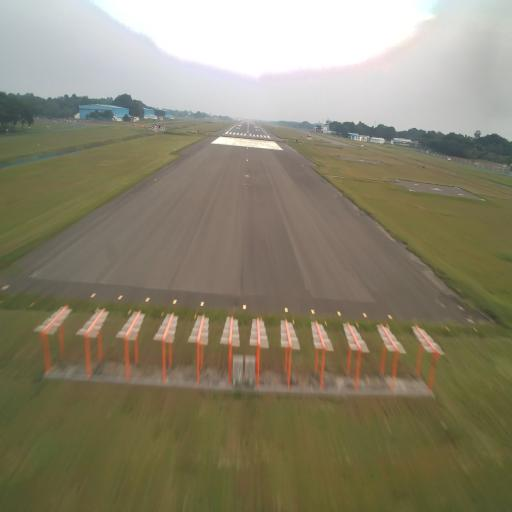on: (87, 285, 98, 303), (116, 291, 126, 306), (143, 293, 151, 307), (283, 303, 291, 316), (386, 311, 394, 324), (241, 300, 249, 312), (200, 297, 206, 312), (171, 296, 178, 308), (310, 305, 316, 319), (362, 308, 368, 322), (335, 310, 343, 318)
